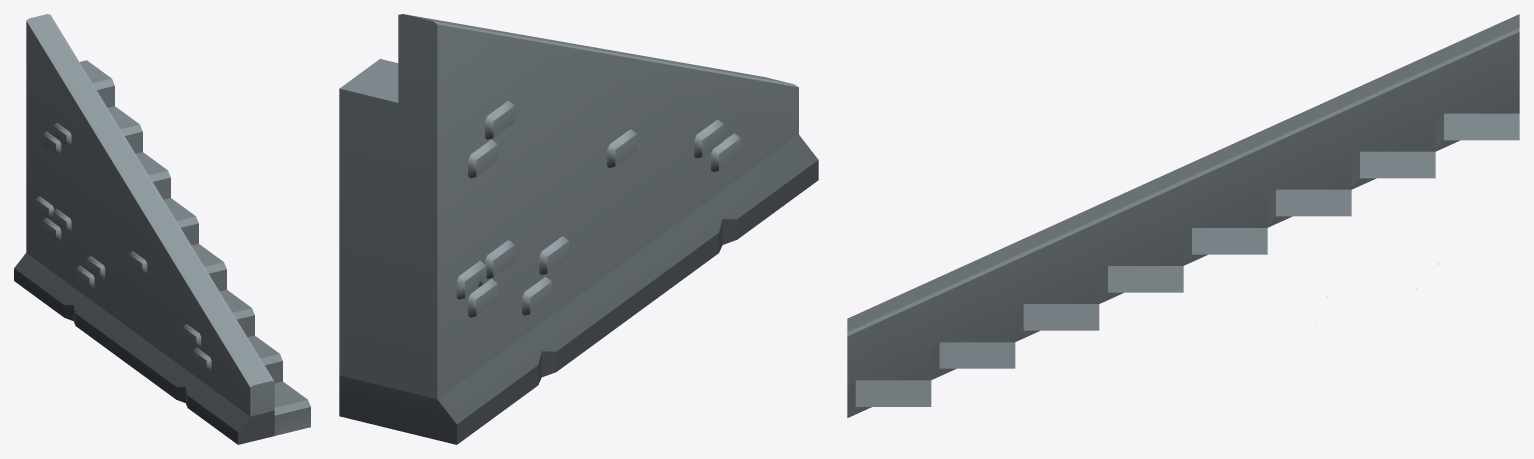
The model's file is stairs_long_modular_left.glb.
3 renders of one model, left to right at view 1: azimuth 30°, elevation 25°; view 2: azimuth 150°, elevation 25°; view 3: azimuth 270°, elevation 25°, orthographic. The views are drawn at different scales.
Parts seen in each view (by area): view 1: stairs_long_modular_left; view 2: stairs_long_modular_left; view 3: stairs_long_modular_left.
Part boxes in pixels (left/top/right/bottom): stairs_long_modular_left: left=14, top=14, right=310, bottom=444; stairs_long_modular_left: left=339, top=14, right=818, bottom=444; stairs_long_modular_left: left=847, top=14, right=1519, bottom=417.
Size of the model in its own units: 1.5 by 5.1 by 8.
1 material, 1 textured.
